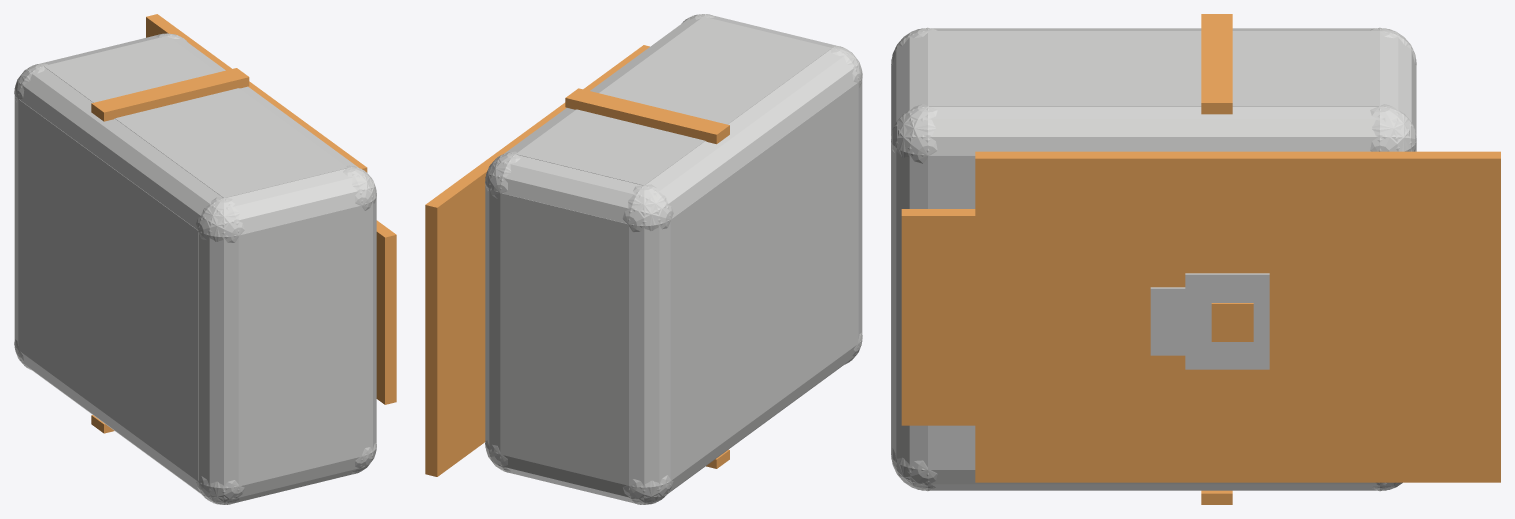
Rendered from torso.glb.
The picture shows the model from 3 angles, left to right: view 1: azimuth 30°, elevation 25°; view 2: azimuth 150°, elevation 25°; view 3: azimuth 270°, elevation 25°; orthographic projection. The views are drawn at different scales.
Visible parts, largest first — view 1: torso_x_visual, torso_z_visual, torso_y_visual, torso_edge5_visual, torso_edge9_visual, torso_edge3_visual, torso_edge7_visual, apron_bib_visual, apron_tie_left_visual, torso_edge8_visual, torso_edge1_visual, torso_edge11_visual (+3 smaller); view 2: torso_x_visual, torso_z_visual, torso_y_visual, apron_visual, torso_edge4_visual, torso_edge9_visual, torso_edge2_visual, torso_edge6_visual, apron_tie_left_visual, torso_edge8_visual, torso_edge0_visual, torso_edge11_visual (+2 smaller); view 3: apron_visual, torso_y_visual, apron_bib_visual, torso_edge11_visual, apron_mark_visual, torso_edge7_visual, torso_edge10_visual, torso_x_visual, torso_edge3_visual, torso_edge2_visual, apron_tie_left_visual, apron_mark_roof_visual (+4 smaller).
Boxes of the visible parts, x1,y1,x2,y2 form: torso_x_visual: [18, 99, 198, 481]; torso_z_visual: [238, 205, 362, 486]; torso_y_visual: [44, 36, 346, 197]; torso_edge5_visual: [198, 197, 239, 504]; torso_edge9_visual: [14, 64, 244, 242]; torso_edge3_visual: [196, 167, 376, 241]; torso_edge7_visual: [343, 165, 376, 474]; apron_bib_visual: [376, 220, 396, 404]; apron_tie_left_visual: [91, 68, 249, 121]; torso_edge8_visual: [14, 343, 244, 504]; torso_edge1_visual: [196, 443, 376, 504]; torso_edge11_visual: [160, 34, 376, 210]; torso_x_visual: [670, 82, 858, 480]; torso_z_visual: [500, 193, 628, 485]; torso_y_visual: [516, 16, 831, 185]; apron_visual: [425, 45, 649, 476]; torso_edge4_visual: [628, 184, 670, 504]; torso_edge9_visual: [623, 46, 862, 231]; torso_edge2_visual: [485, 153, 673, 230]; torso_edge6_visual: [485, 151, 520, 472]; apron_tie_left_visual: [565, 88, 729, 144]; torso_edge8_visual: [623, 336, 862, 504]; torso_edge0_visual: [485, 440, 673, 504]; torso_edge11_visual: [485, 14, 710, 198]; apron_visual: [975, 151, 1500, 482]; torso_y_visual: [928, 31, 1379, 106]; apron_bib_visual: [901, 209, 1027, 425]; torso_edge11_visual: [891, 106, 1416, 157]; apron_mark_visual: [1185, 273, 1269, 369]; torso_edge7_visual: [891, 104, 937, 490]; torso_edge10_visual: [891, 448, 1402, 490]; torso_x_visual: [928, 155, 975, 469]; torso_edge3_visual: [891, 27, 937, 163]; torso_edge2_visual: [1370, 27, 1416, 151]; apron_tie_left_visual: [1201, 14, 1232, 114]; apron_mark_roof_visual: [1150, 287, 1188, 355].
Size of the model in its own units: 0.263 by 0.422 by 0.58.
